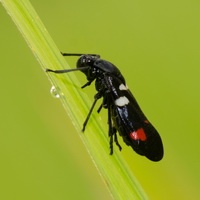insect: (46, 53, 163, 160)
